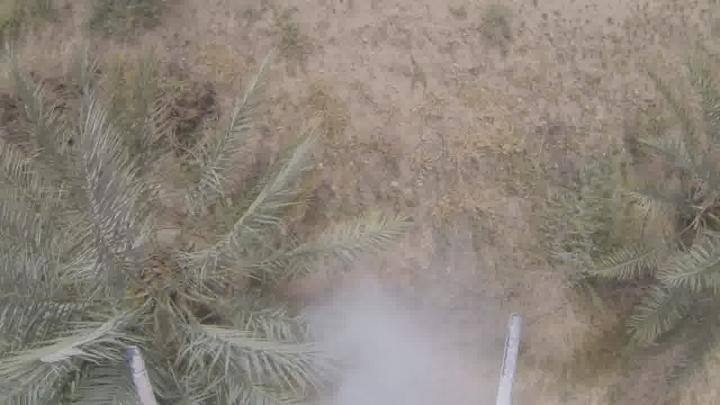Date-Palm-Crown: (15, 169, 255, 404), (659, 128, 720, 314)
